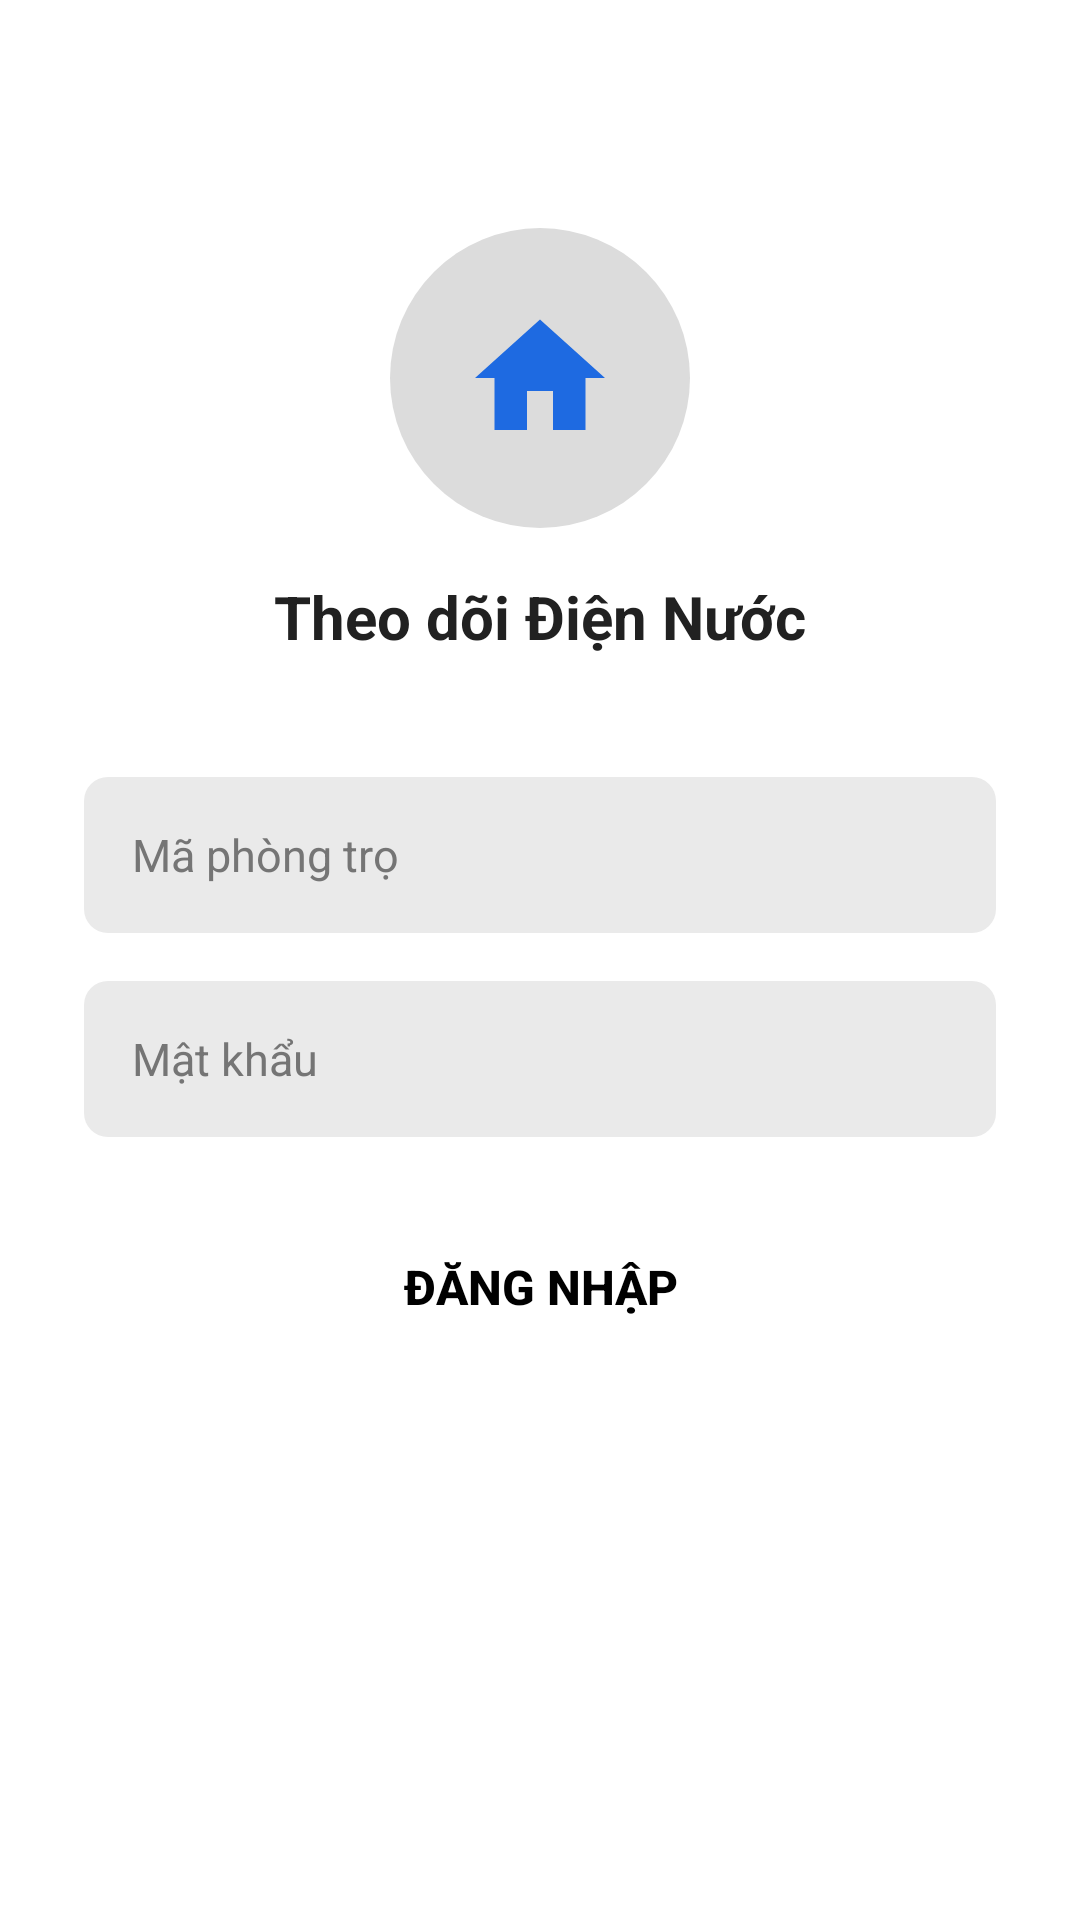

Icon bounding boxes for this 1080px×1920px phone screenshot, format bbox(x1, y1, x2, y2):
home: bbox(475, 319, 605, 430)
